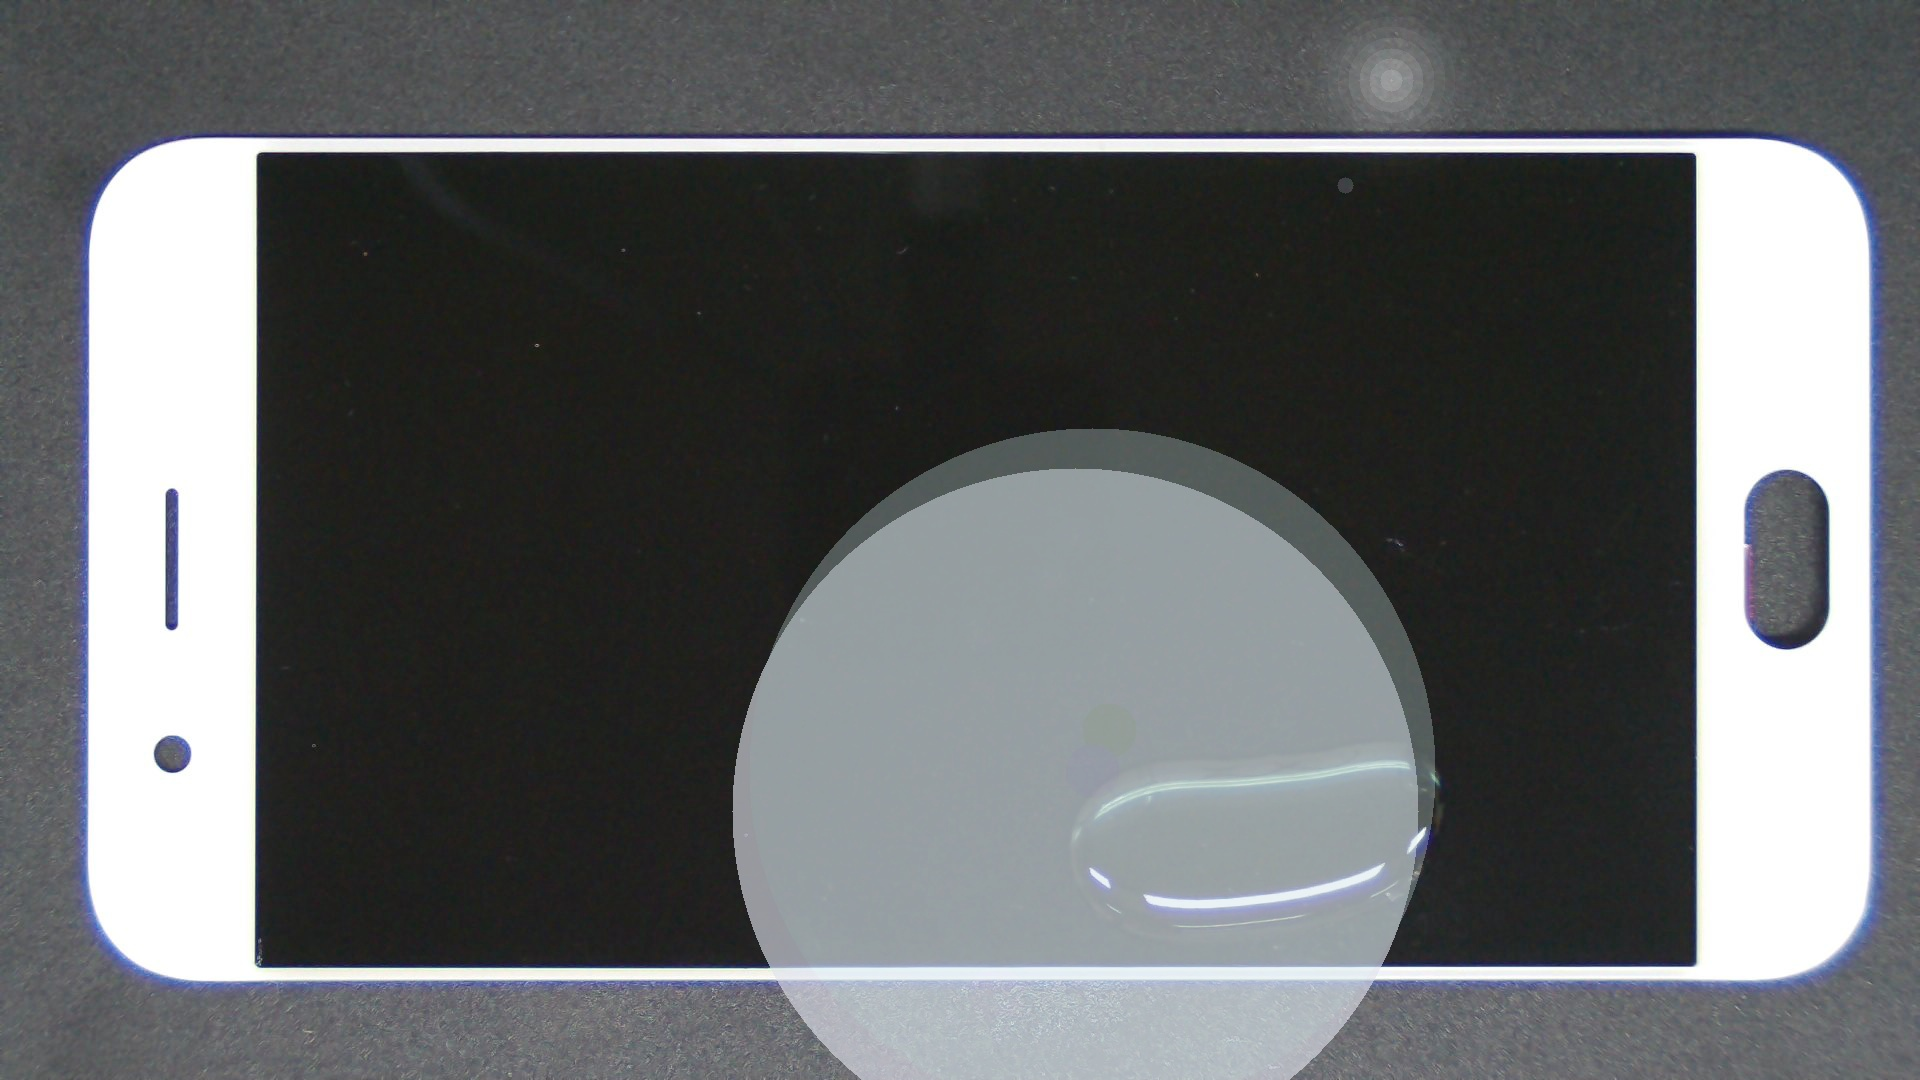oil: (686, 369, 1920, 1080)
